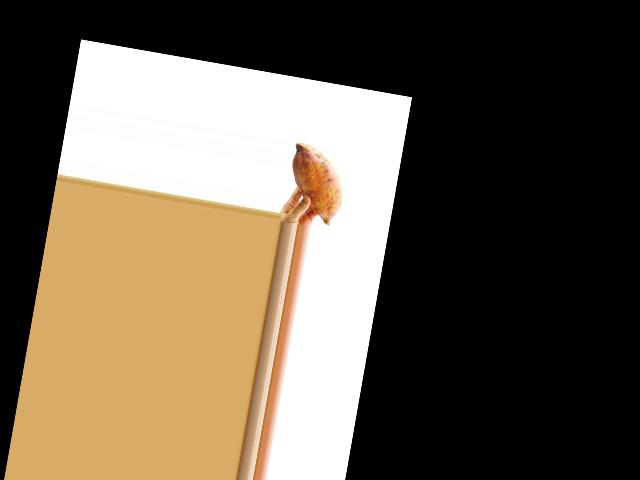sweet_potato: (281, 139, 355, 225)
